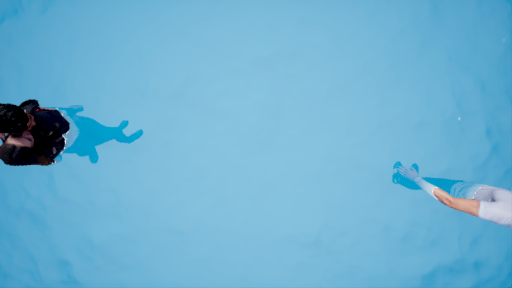person: (1, 96, 153, 173)
